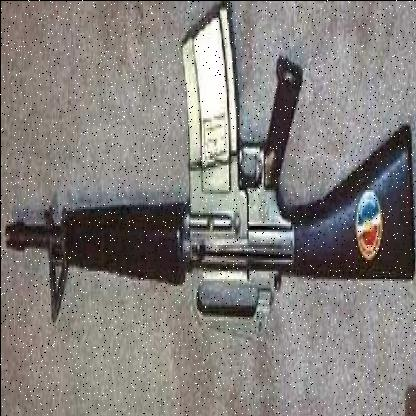rifle: (3, 2, 416, 374)
